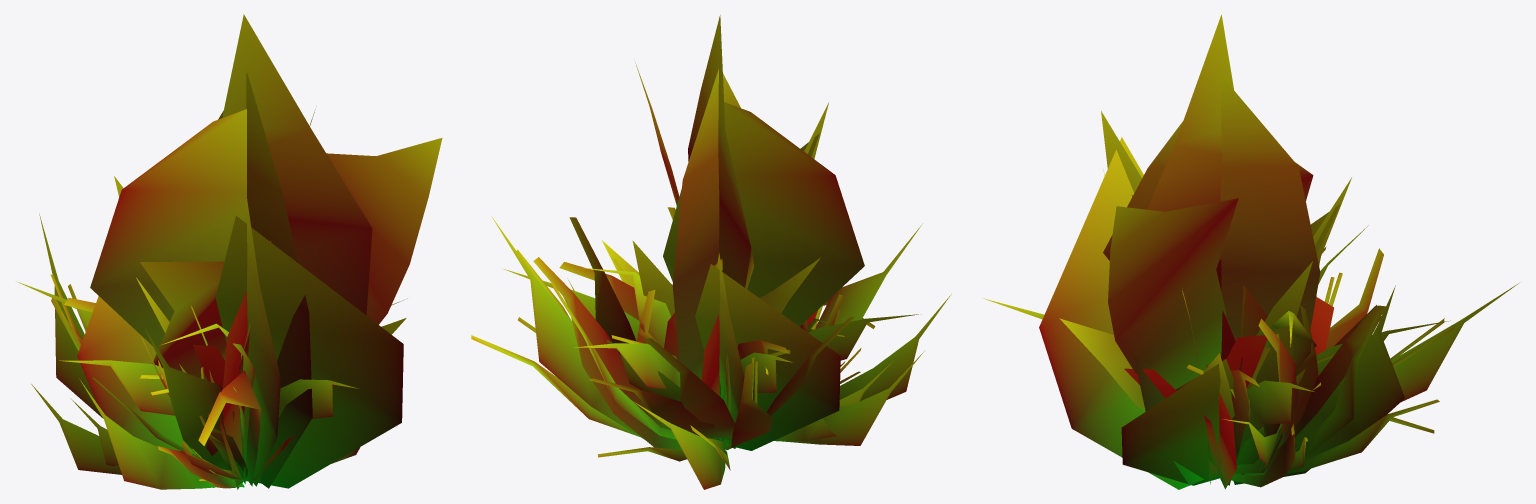
Rendered from tmjhcayia_Var1_LOD1.fbx.
3 views of the same model, side by side, from view 1: azimuth 30°, elevation 25°; view 2: azimuth 150°, elevation 25°; view 3: azimuth 270°, elevation 25° (orthographic). The views are drawn at different scales.
Visible parts, largest first — view 1: Var1_LOD1; view 2: Var1_LOD1; view 3: Var1_LOD1.
Boxes of the visible parts, x1,y1,x2,y2 form: Var1_LOD1: [16, 14, 442, 489]; Var1_LOD1: [471, 15, 951, 489]; Var1_LOD1: [983, 14, 1518, 489].
Bounding box in the file's own units: 23.44 × 25.81 × 26.93.
